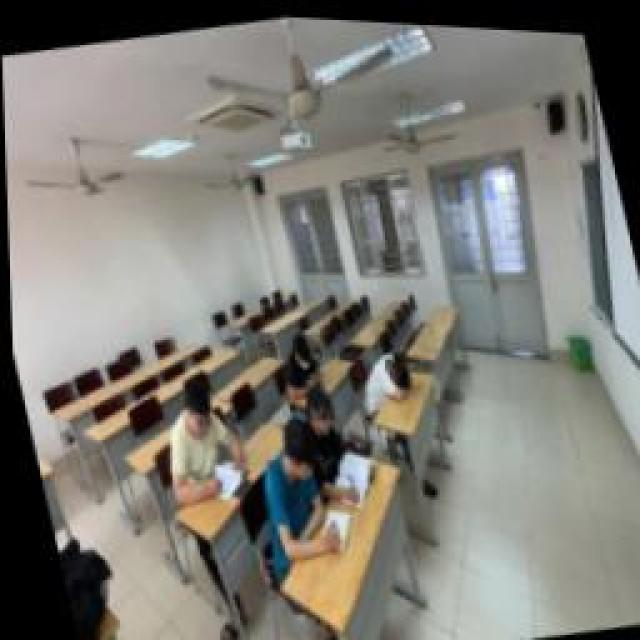sleep: (352, 342, 418, 410)
study: (245, 402, 337, 560), (148, 375, 250, 503), (288, 380, 362, 508), (272, 328, 322, 392)
